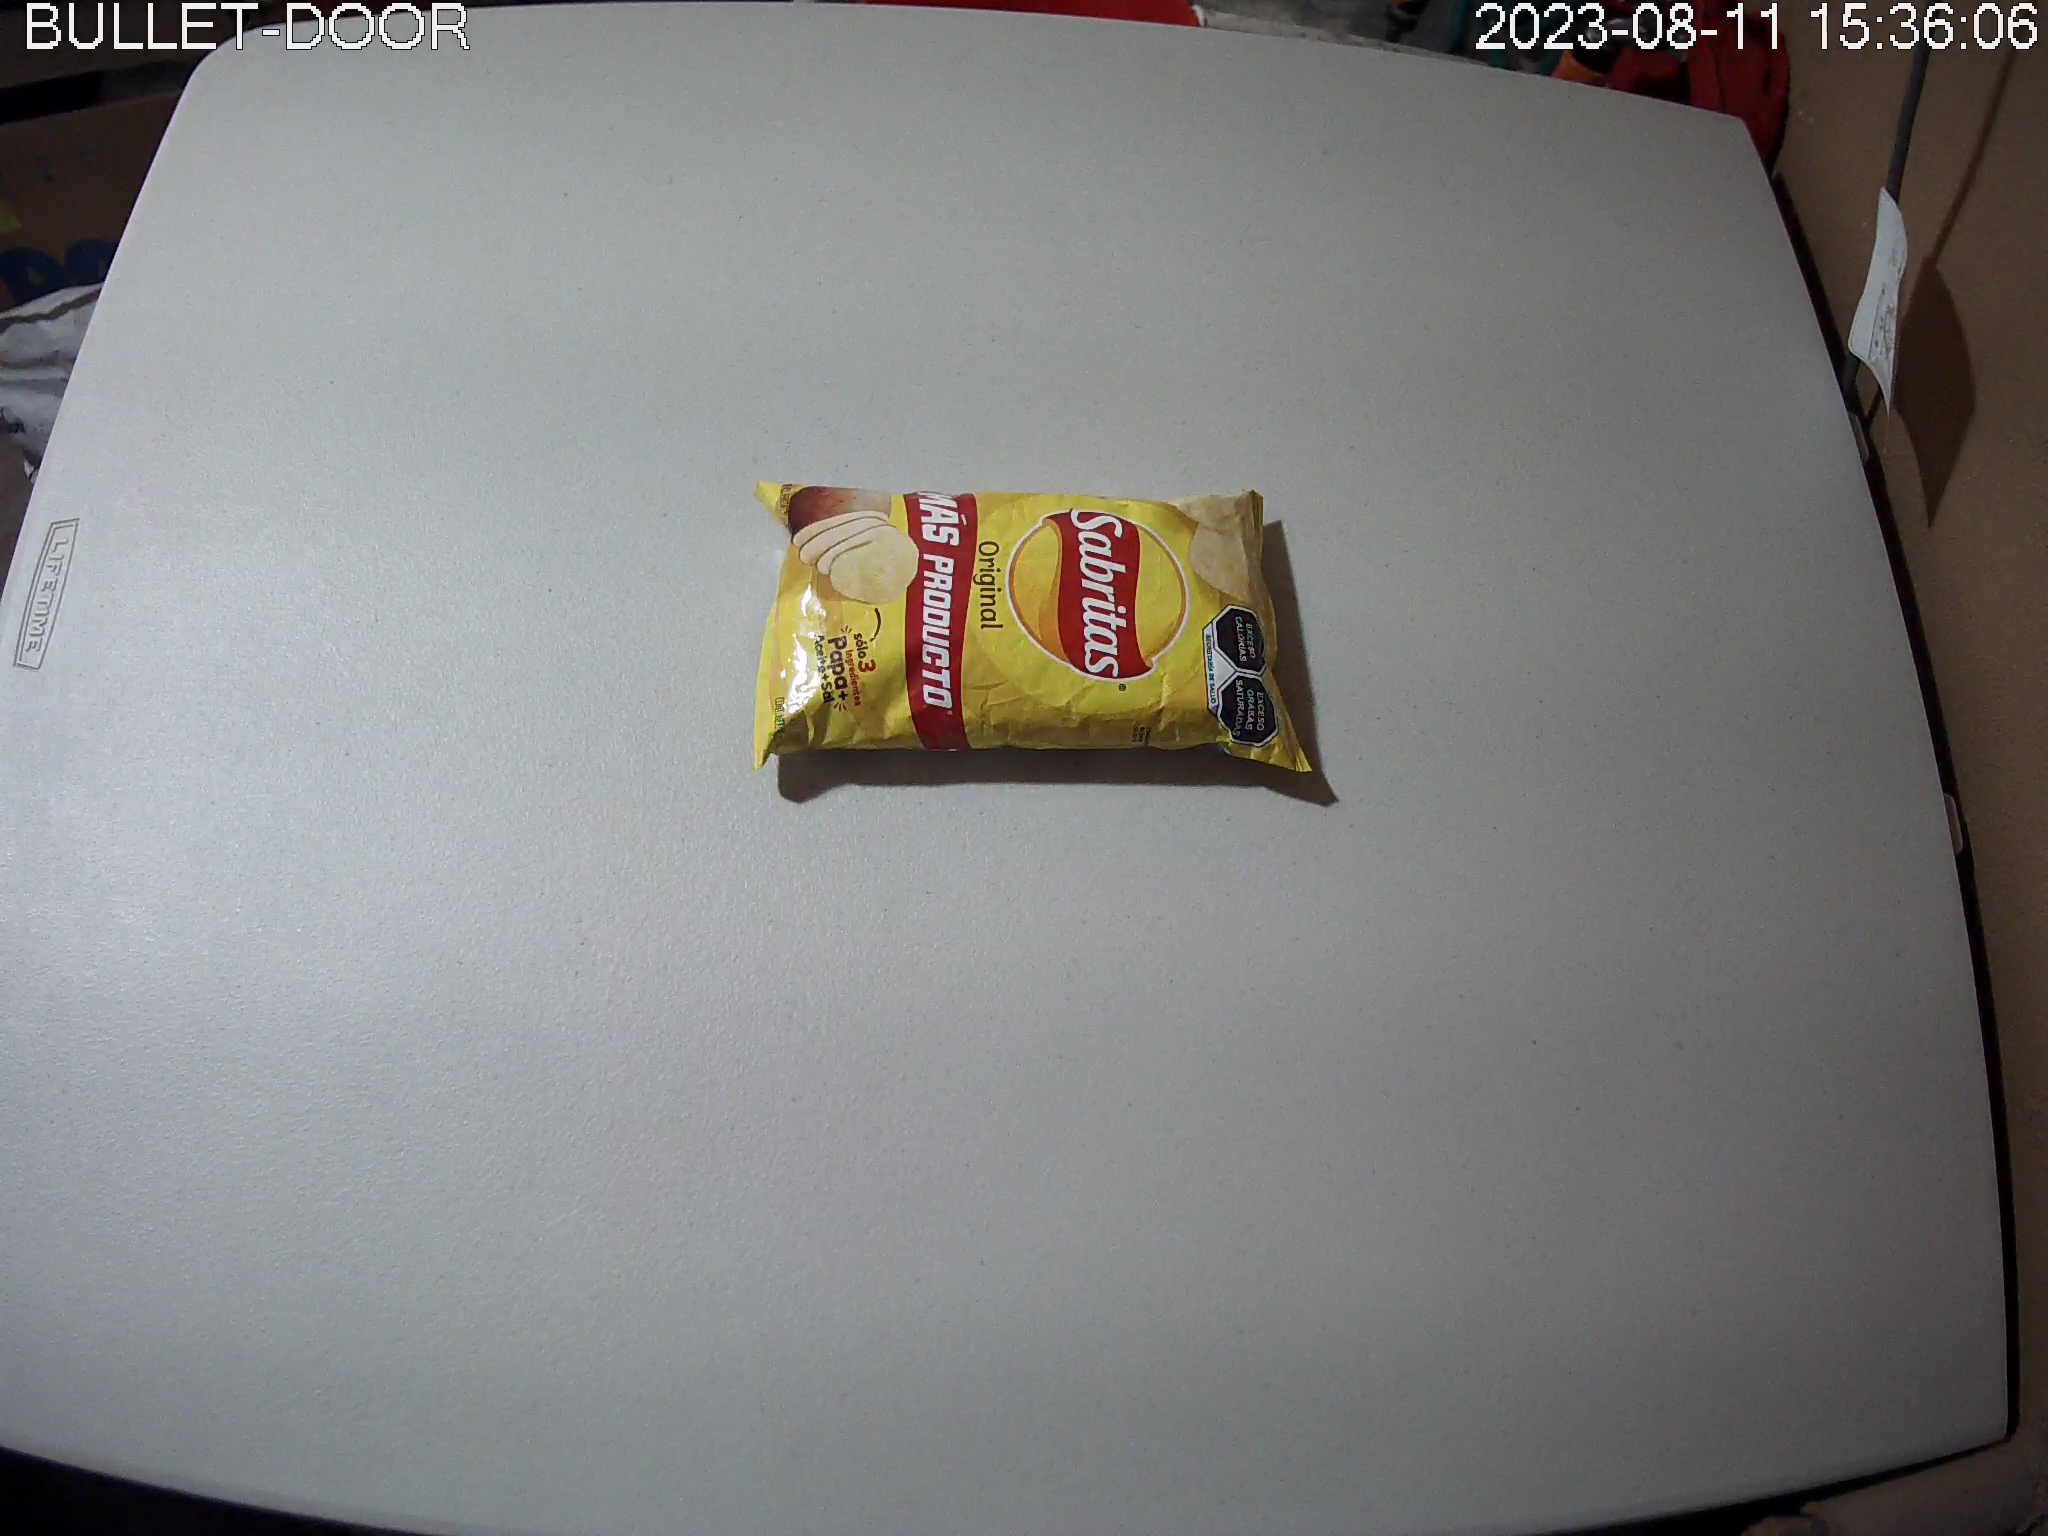Sabritas_45_F: (751, 481, 1316, 774)
